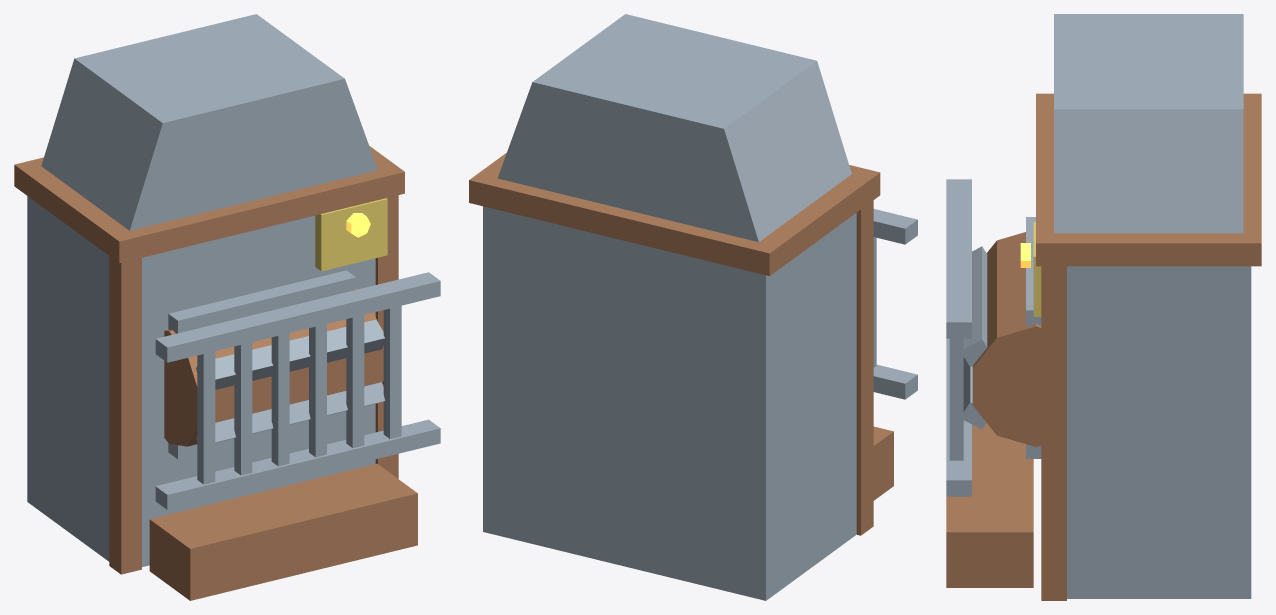
Rendered from wipe-day-survival-island-recycler-5251c6d5__27465.glb.
3 renders of one model, left to right at view 1: azimuth 30°, elevation 25°; view 2: azimuth 150°, elevation 25°; view 3: azimuth 270°, elevation 25°, orthographic. The views are drawn at different scales.
Visible parts, largest first — view 1: recycler, drum/metal, drum/rust; view 2: recycler; view 3: recycler, drum/rust, drum/metal.
Part boxes in pixels (<box>): recycler: <box>14,14,440,600</box>; drum/metal: <box>168,270,384,459</box>; drum/rust: <box>164,287,383,446</box>; recycler: <box>469,14,917,600</box>; recycler: <box>946,14,1261,600</box>; drum/rust: <box>972,232,1041,446</box>; drum/metal: <box>963,217,1041,458</box>.
Bounding box in the file's own units: 1.38 × 2.01 × 1.23.
